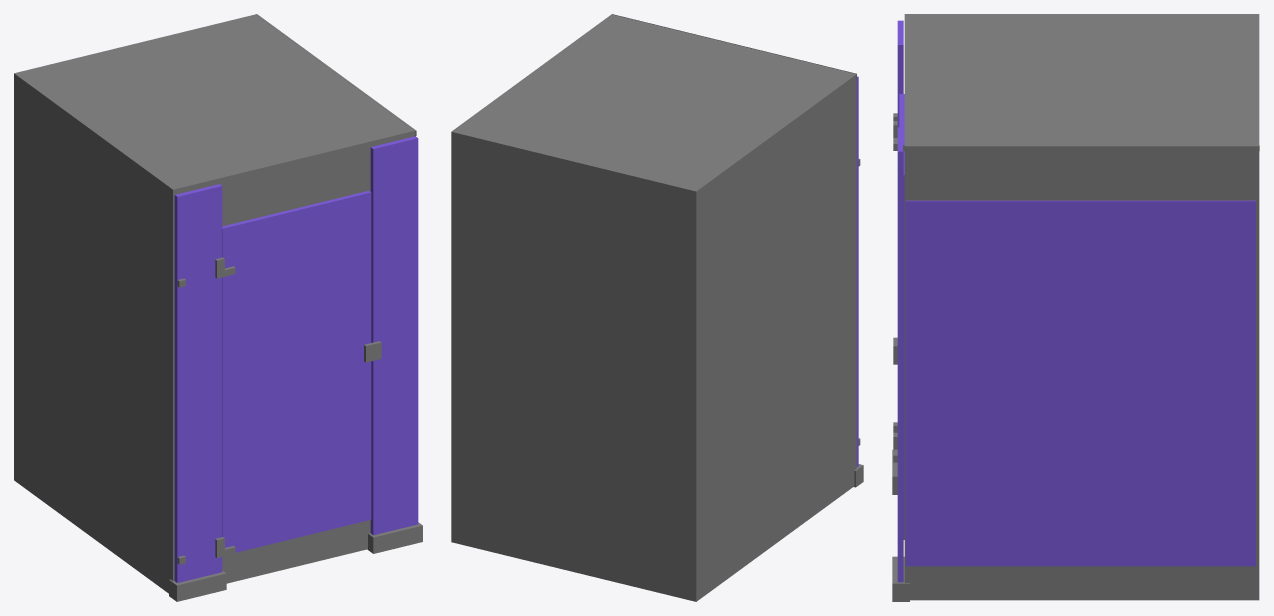
File: Bathroom_Stall.fbx
3 renders of one model, left to right at view 1: azimuth 30°, elevation 25°; view 2: azimuth 150°, elevation 25°; view 3: azimuth 270°, elevation 25°, orthographic. The views are drawn at different scales.
Visible parts, largest first — view 1: pCube1, pPlane1, pPlane3, pPlane2, pPlane5, pPlane14, pPlane10; view 2: pCube1, pPlane3; view 3: pPlane4, pCube1, pPlane2, pPlane1, pPlane3, pPlane10.
Part boxes in pixels (<box>): pCube1: <box>14,14,415,593</box>; pPlane1: <box>222,190,371,552</box>; pPlane3: <box>174,184,222,582</box>; pPlane2: <box>370,136,418,535</box>; pPlane5: <box>173,130,416,195</box>; pPlane14: <box>169,570,226,601</box>; pPlane10: <box>367,522,422,553</box>; pCube1: <box>451,14,856,601</box>; pPlane3: <box>856,76,858,466</box>; pPlane4: <box>905,200,1255,566</box>; pCube1: <box>904,14,1259,600</box>; pPlane2: <box>897,127,903,582</box>; pPlane1: <box>899,94,904,539</box>; pPlane3: <box>897,20,903,127</box>; pPlane10: <box>892,556,909,601</box>.
Size of the model in its own units: 1.52 by 2.41 by 1.76.
